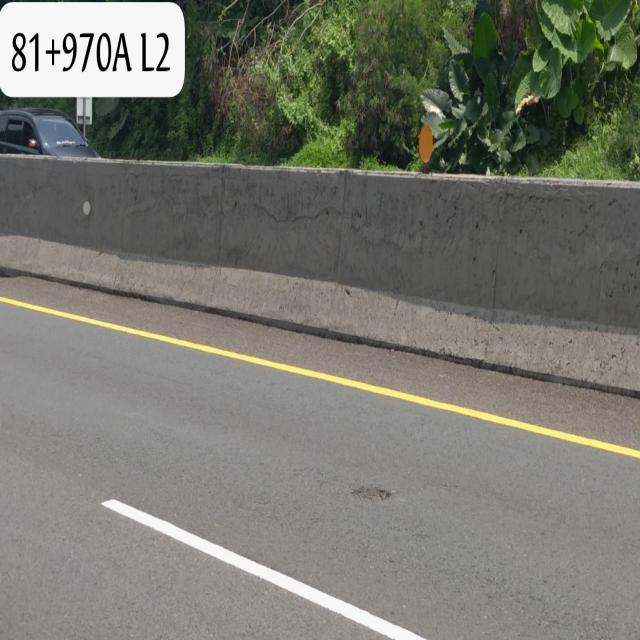Buraco: (348, 484, 394, 507)
